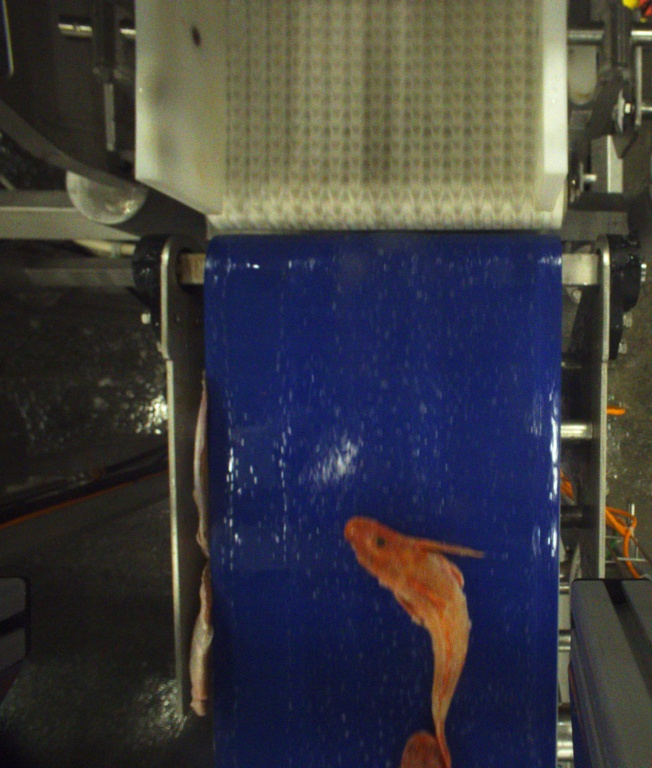GUU: (344, 513, 476, 765)
